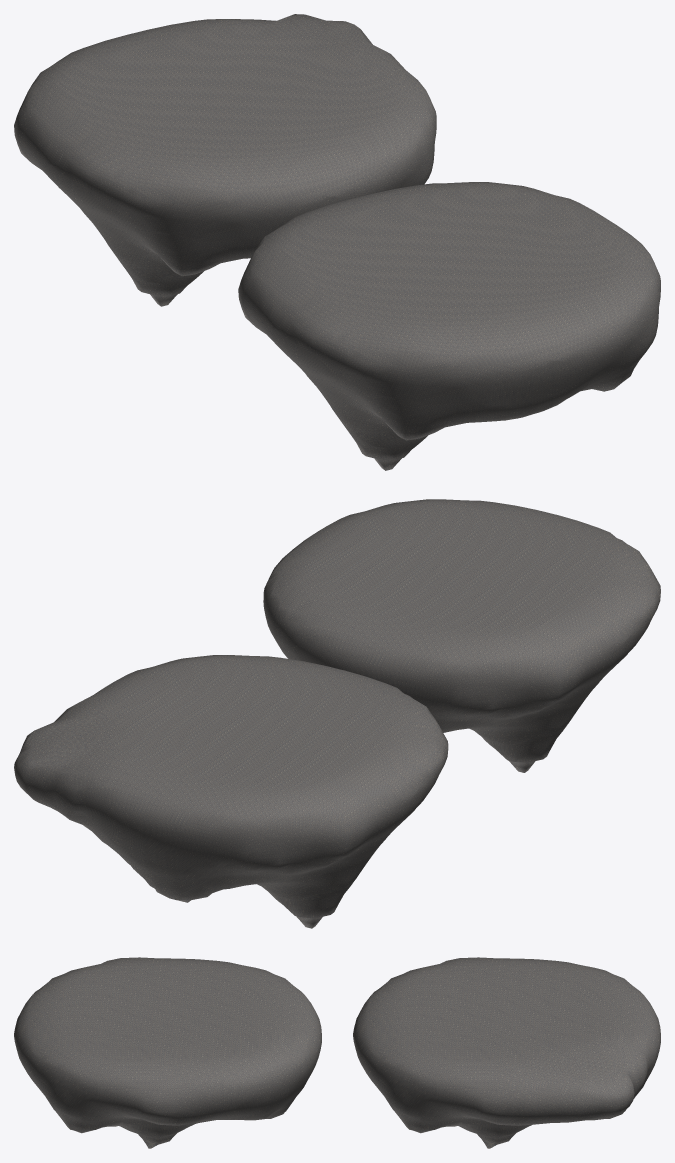
File: level2.gltf
3 views of the same model, one above another, from view 1: azimuth 30°, elevation 25°; view 2: azimuth 150°, elevation 25°; view 3: azimuth 270°, elevation 25° (orthographic). The views are drawn at different scales.
Parts seen in each view (by area): view 1: Cube.001, Cube.003; view 2: Cube.003, Cube.001; view 3: Cube.003, Cube.001.
Part boxes in pixels (x1=…): Cube.001: x1=238, y1=182, x2=660, y2=470; Cube.003: x1=14, y1=14, x2=436, y2=306; Cube.003: x1=14, y1=655, x2=448, y2=928; Cube.001: x1=263, y1=499, x2=660, y2=772; Cube.003: x1=353, y1=957, x2=660, y2=1148; Cube.001: x1=14, y1=957, x2=321, y2=1148.
Bounding box in the file's own units: 72.31 × 37.66 × 148.
Materials: 1 (1 with a texture image).
